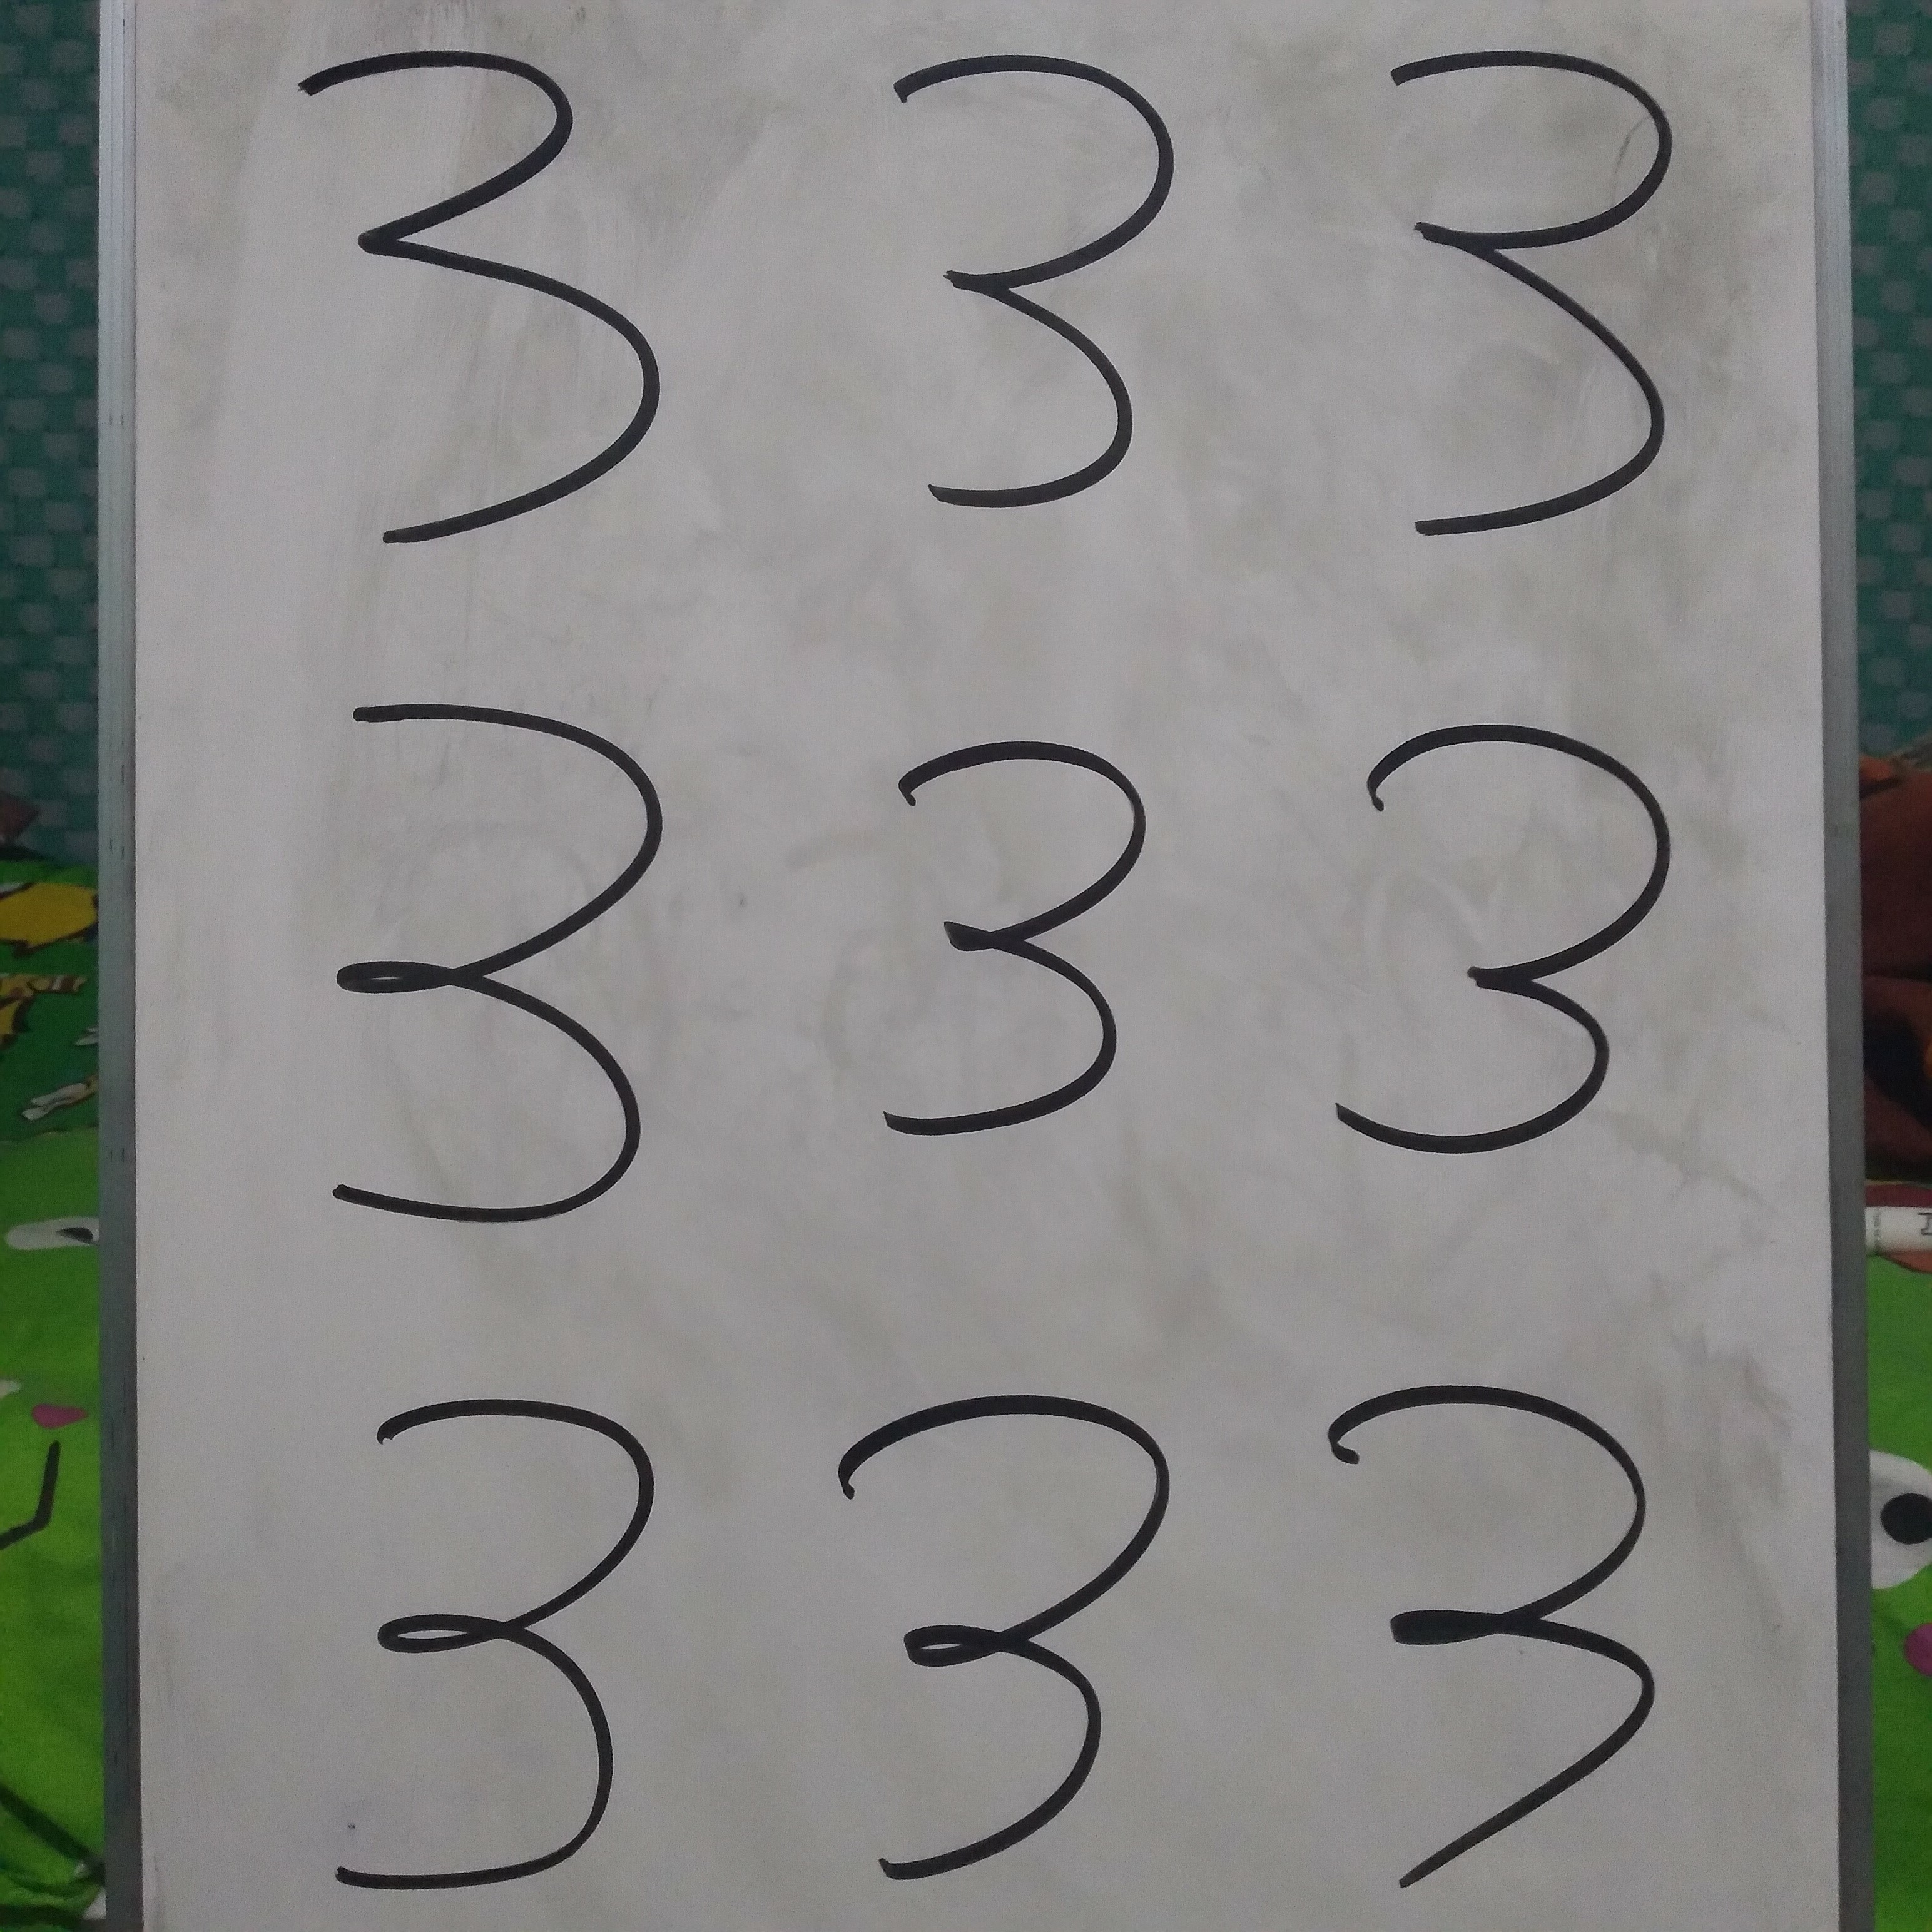num3: (1301, 28, 1737, 581), (1296, 674, 1732, 1228), (285, 1379, 721, 1932), (1290, 1355, 1726, 1908), (285, 41, 721, 594), (785, 15, 1221, 568), (317, 678, 753, 1231), (801, 1358, 1237, 1911), (835, 675, 1271, 1228)
